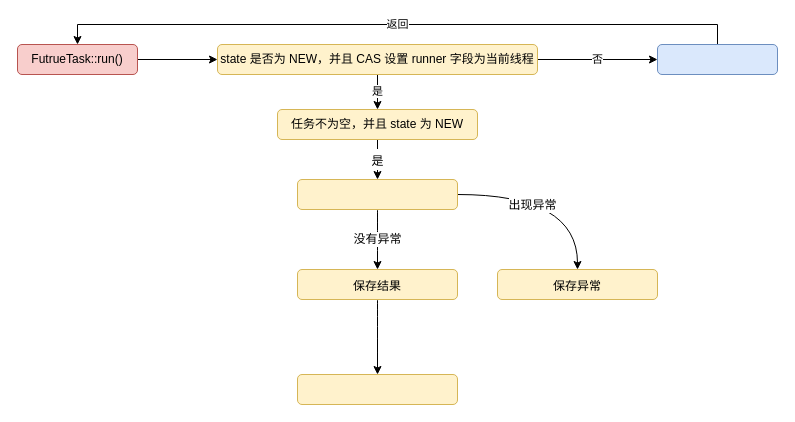
Some shapes in this 795 by 422 pixel diagram are drawn without their labels. Each missing label, with the centre of its shape:
return;: (x=717, y=59)
执行任务 callable.call(): (x=377, y=194)
